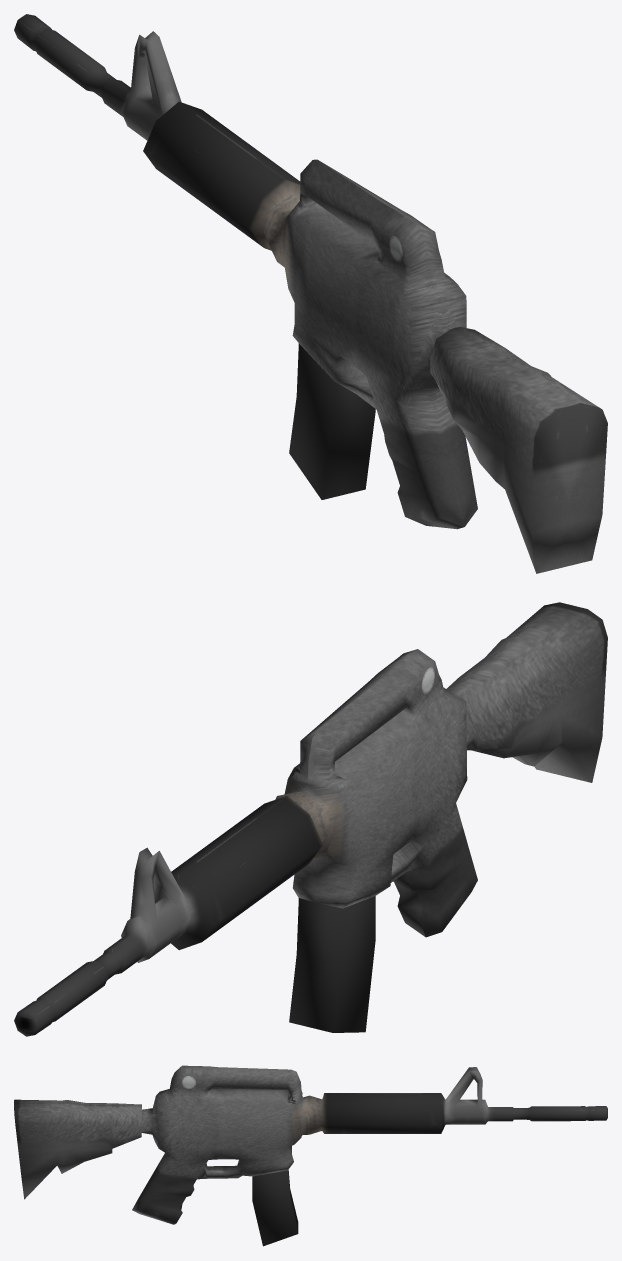
3 views of the same model, one above another, from view 1: azimuth 30°, elevation 25°; view 2: azimuth 150°, elevation 25°; view 3: azimuth 270°, elevation 25° (orthographic). The views are drawn at different scales.
Parts seen in each view (by area): view 1: Cube, Cube.001; view 2: Cube, Cube.001; view 3: Cube, Cube.001.
Part boxes in pixels (x1,y1,x2,y2): Cube: [14, 14, 607, 573]; Cube.001: [289, 343, 375, 499]; Cube: [14, 602, 607, 1036]; Cube.001: [289, 896, 375, 1032]; Cube: [14, 1065, 607, 1224]; Cube.001: [252, 1170, 298, 1246].
Size of the model in its own units: 0.624 by 2.68 by 8.23.
Materials: 2 (1 with a texture image).
